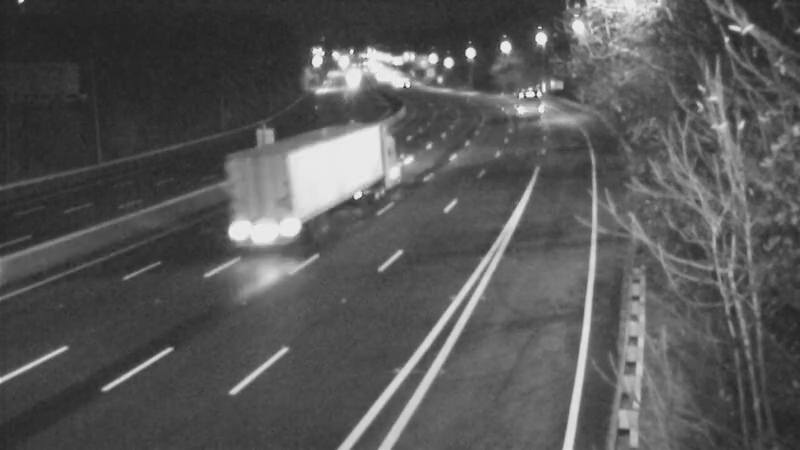vehicle: (274, 144, 354, 224), (358, 58, 408, 108), (381, 54, 431, 104), (495, 75, 545, 125)
